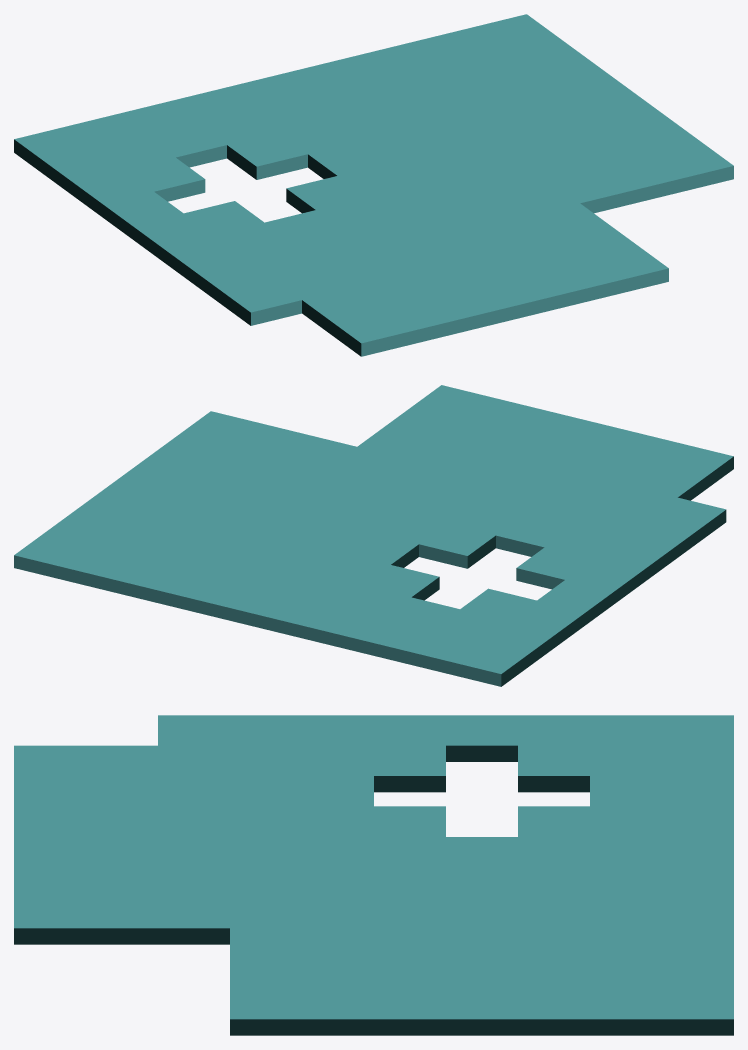
File: cubo_4.FBX
The picture shows the model from 3 angles, top to bottom: view 1: azimuth 30°, elevation 25°; view 2: azimuth 150°, elevation 25°; view 3: azimuth 270°, elevation 25°; orthographic projection. The views are drawn at different scales.
Visible parts, largest first — view 1: Box001; view 2: Box001; view 3: Box001.
Boxes of the visible parts, bbox=[...] form: Box001: bbox=[14, 14, 733, 356]; Box001: bbox=[14, 385, 733, 686]; Box001: bbox=[14, 715, 733, 1035].
Bounding box in the file's own units: 10 × 0.25 × 10.
